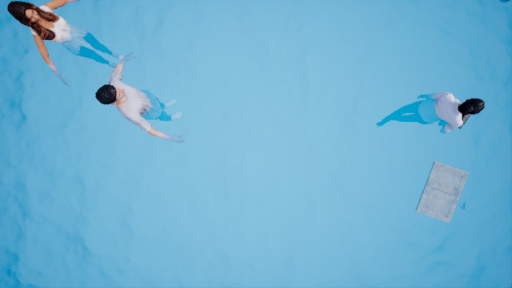person: (9, 3, 138, 90), (101, 54, 189, 142), (366, 89, 478, 139)
